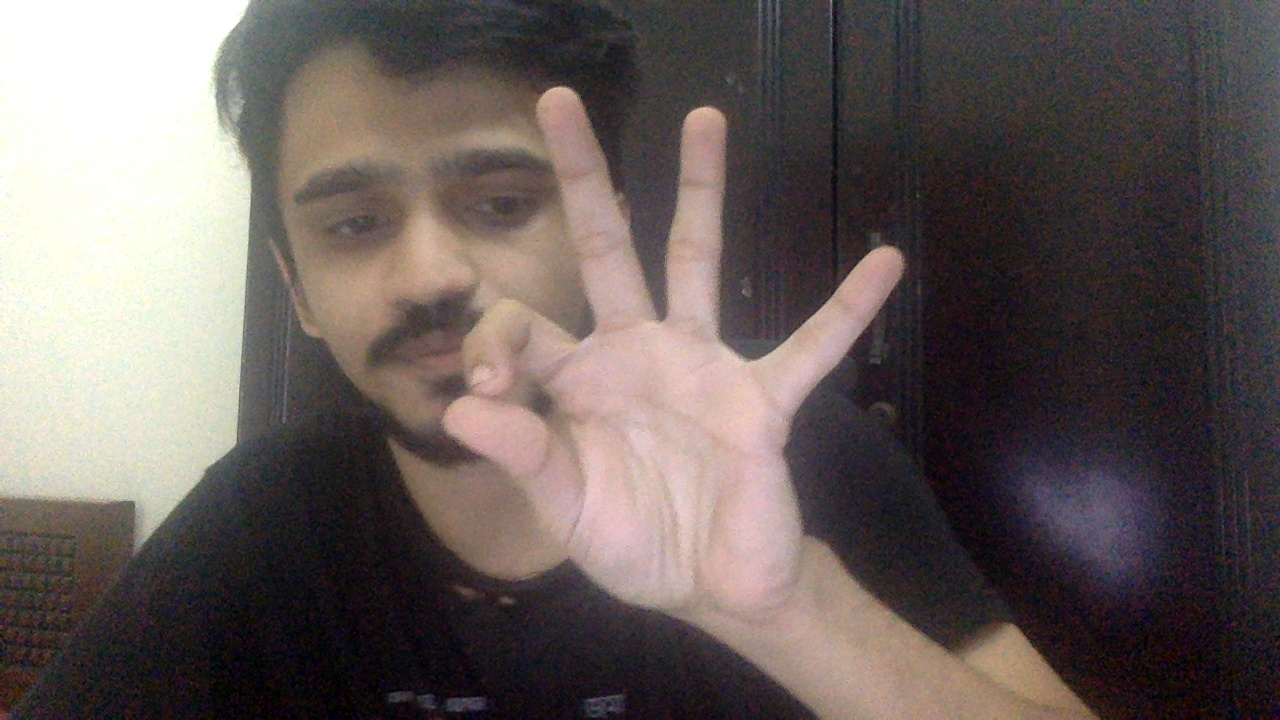perfect: (443, 83, 903, 617)
